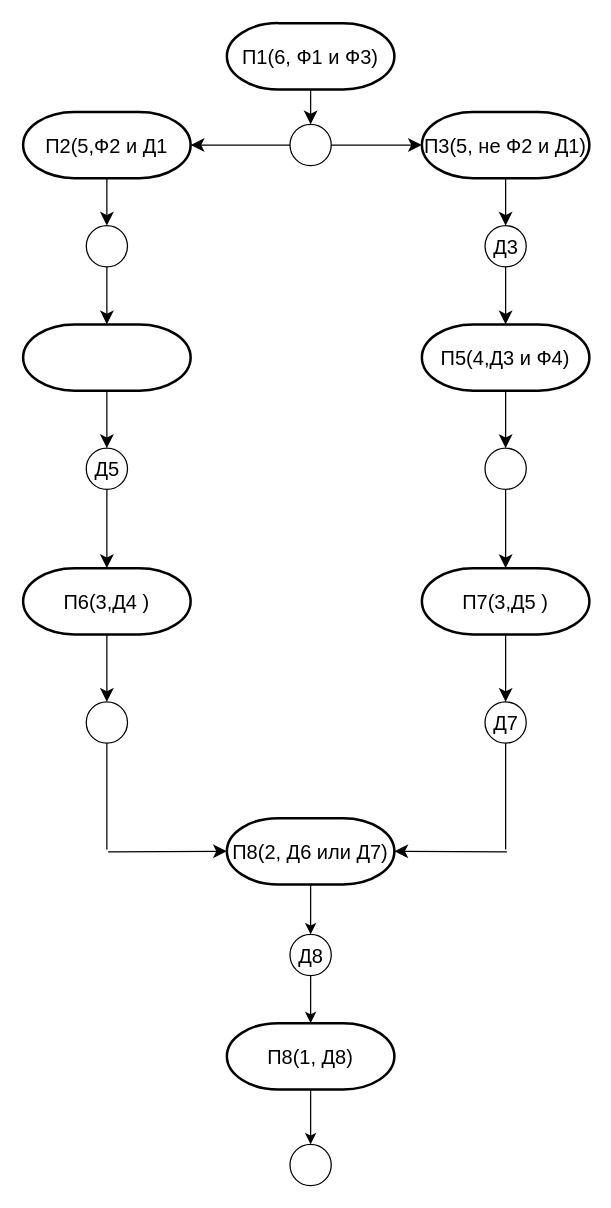
This 611x1208 diagram has some shape labels left out. Each missing label, with the centre of its shape:
Д1: point 310,144
Д2: point 106,245
Д4: point 505,468
Д6: point 106,722
Д9: point 310,1164
П4(4,Д2 и Ф4): point 106,356
